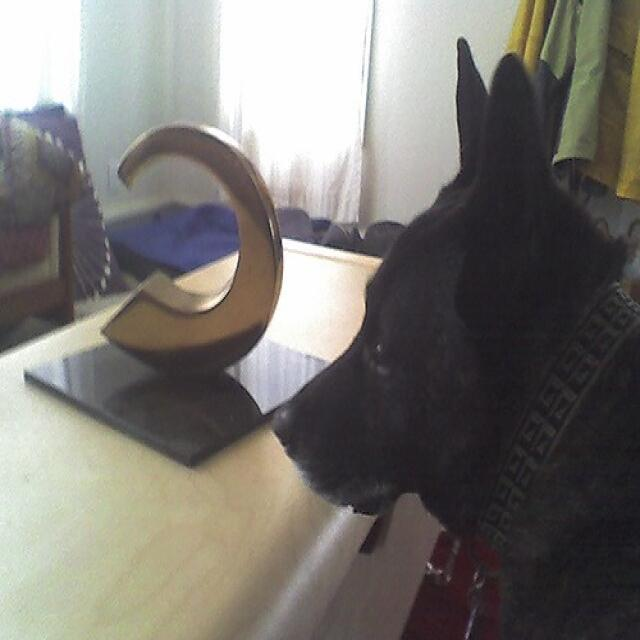dog: (274, 34, 639, 638)
